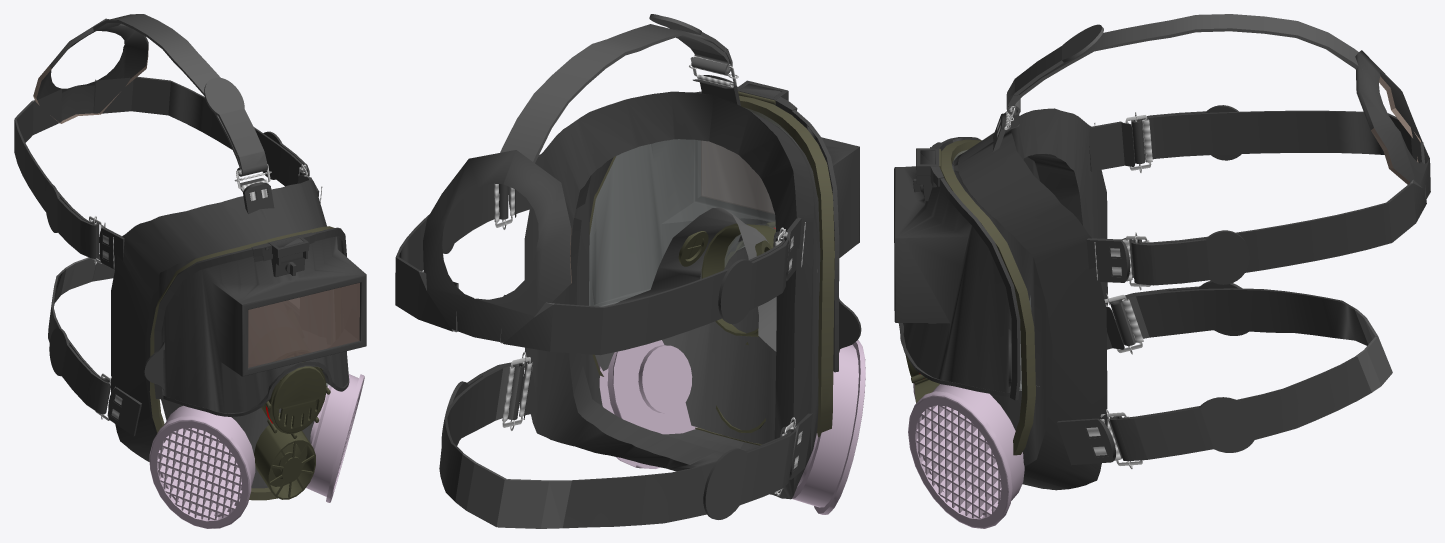
File: Gas_Mask.fbx
3 views of the same model, side by side, from view 1: azimuth 30°, elevation 25°; view 2: azimuth 150°, elevation 25°; view 3: azimuth 270°, elevation 25° (orthographic). The views are drawn at different scales.
Parts seen in each view (by area): view 1: polySurface137; view 2: polySurface137; view 3: polySurface137.
Part boxes in pixels (left/top/right/bottom): polySurface137: left=14, top=14, right=366, bottom=528; polySurface137: left=395, top=14, right=865, bottom=528; polySurface137: left=894, top=14, right=1430, bottom=528.
Size of the model in its own units: 16.19 by 27.24 by 28.11.
10 materials, 1 textured.
